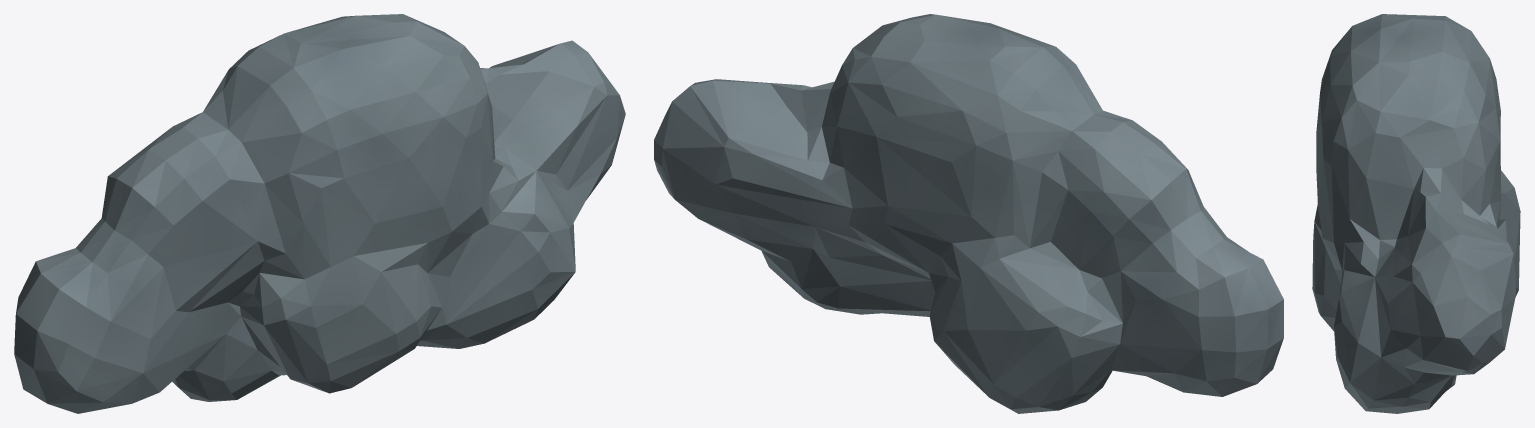
Rendered from Cloudbig1-finished.fbx.
3 renders of one model, left to right at view 1: azimuth 30°, elevation 25°; view 2: azimuth 150°, elevation 25°; view 3: azimuth 270°, elevation 25°, orthographic. The views are drawn at different scales.
Parts seen in each view (by area): view 1: cloudbig1; view 2: cloudbig1; view 3: cloudbig1.
Boxes of the visible parts, <box> form: cloudbig1: <box>14,14,625,413</box>; cloudbig1: <box>654,14,1283,413</box>; cloudbig1: <box>1312,14,1520,413</box>.
Size of the model in its own units: 639 by 344 by 193.
1 material, 1 textured.
